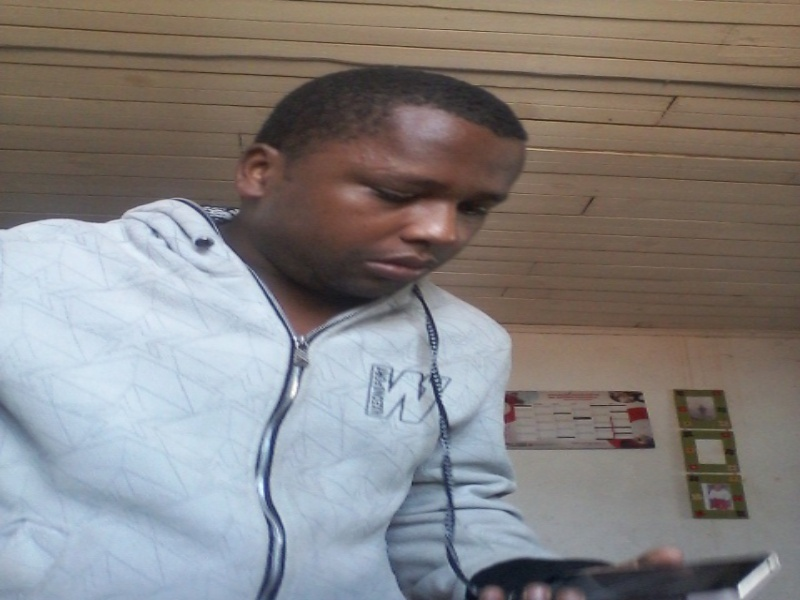TsisyArotava: (230, 49, 522, 334)
